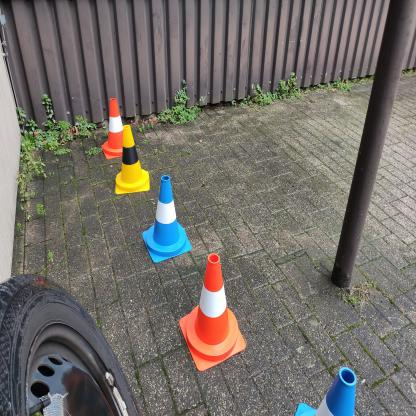Cones_small_blue: (143, 169, 196, 272), (290, 359, 359, 416)
Cones_small_orange: (175, 252, 247, 387)
Cones_small_yellow: (105, 120, 150, 196)
